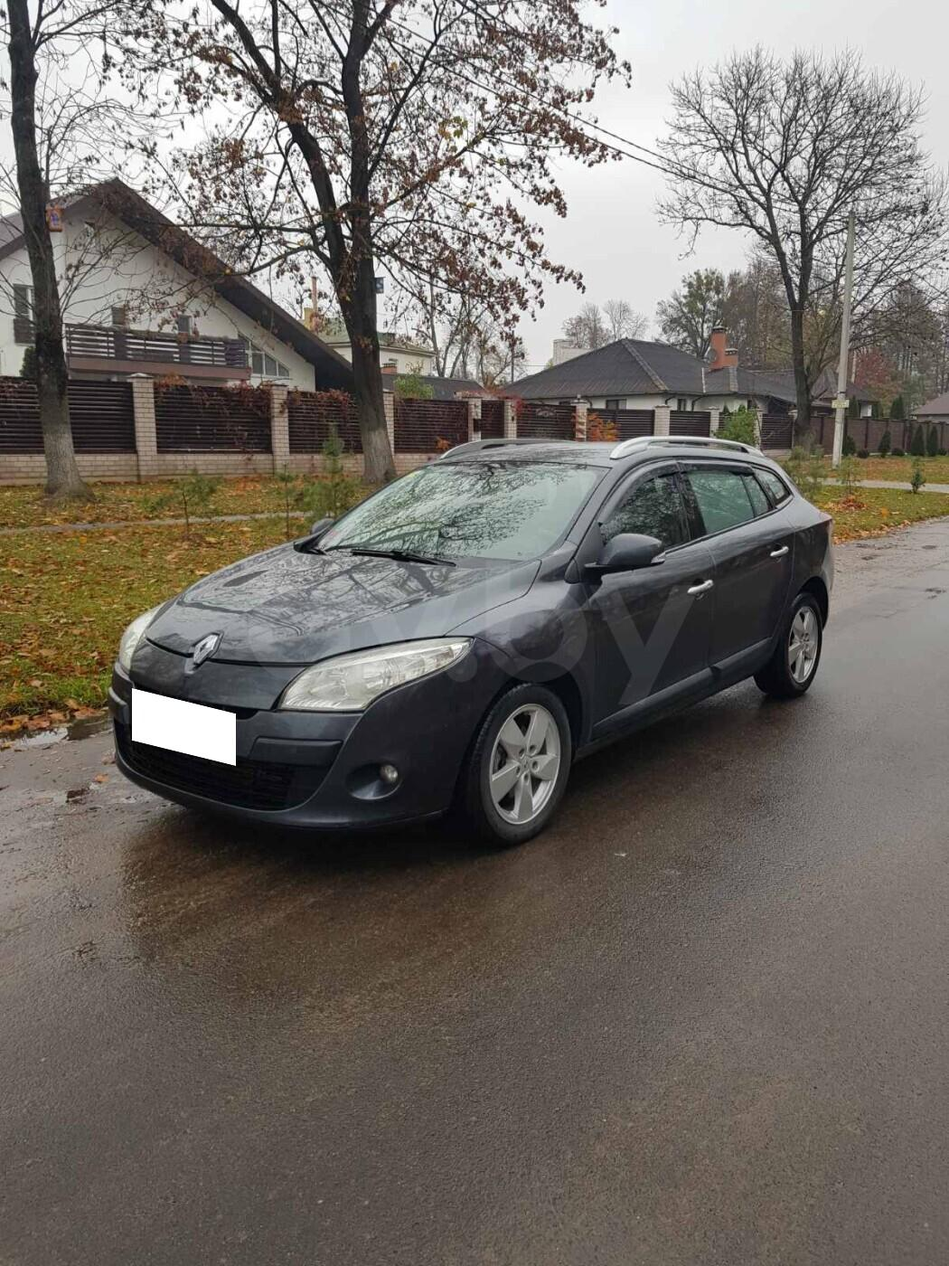Megane_2008-2014: (107, 434, 828, 857)
